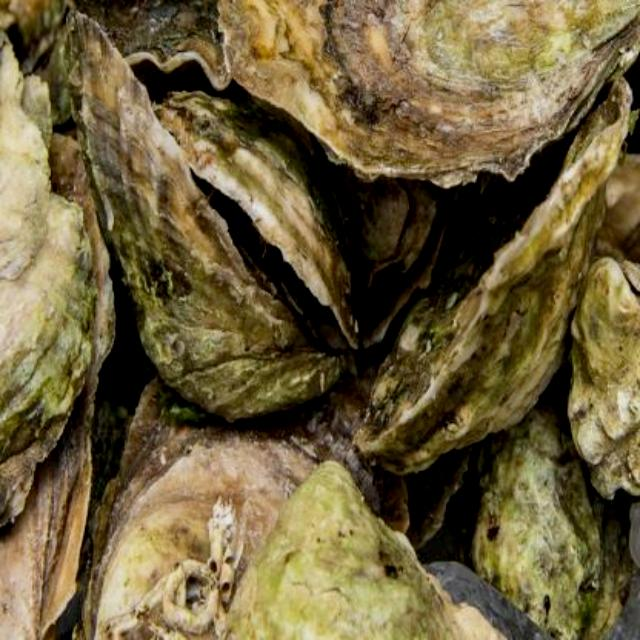Oyster-Closed: (62, 20, 343, 418), (365, 78, 631, 477), (84, 352, 406, 640), (221, 0, 640, 167), (0, 144, 113, 640), (451, 350, 633, 640), (164, 89, 356, 338), (0, 32, 96, 517), (222, 462, 465, 640), (35, 0, 230, 126), (574, 256, 640, 505), (604, 144, 640, 256)
Oyster-Open: (327, 155, 458, 345)
